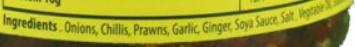ingredients: (0, 7, 355, 45)
